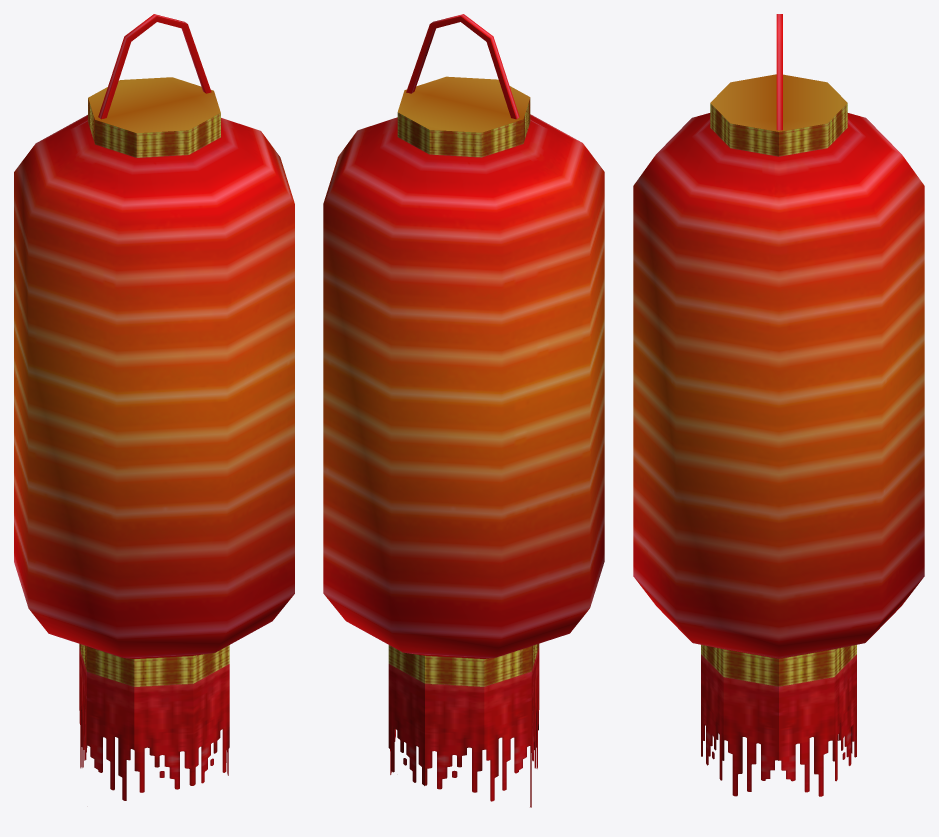
Rendered from furni_0200241.FBX.
3 views of the same model, side by side, from view 1: azimuth 30°, elevation 25°; view 2: azimuth 150°, elevation 25°; view 3: azimuth 270°, elevation 25° (orthographic).
Visible parts, largest first — view 1: furni_0200241; view 2: furni_0200241; view 3: furni_0200241.
Part boxes in pixels (box(x1,y1,x2,y2)): furni_0200241: box(14, 14, 294, 800); furni_0200241: box(323, 14, 604, 807); furni_0200241: box(633, 14, 924, 796).
Size of the model in its own units: 31.34 by 92.17 by 31.34.
